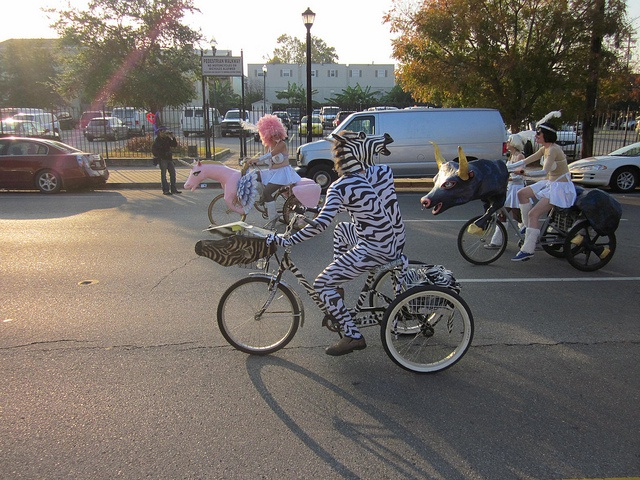non-vehicle: (216, 202, 475, 376), (458, 166, 616, 268), (205, 178, 321, 226)
